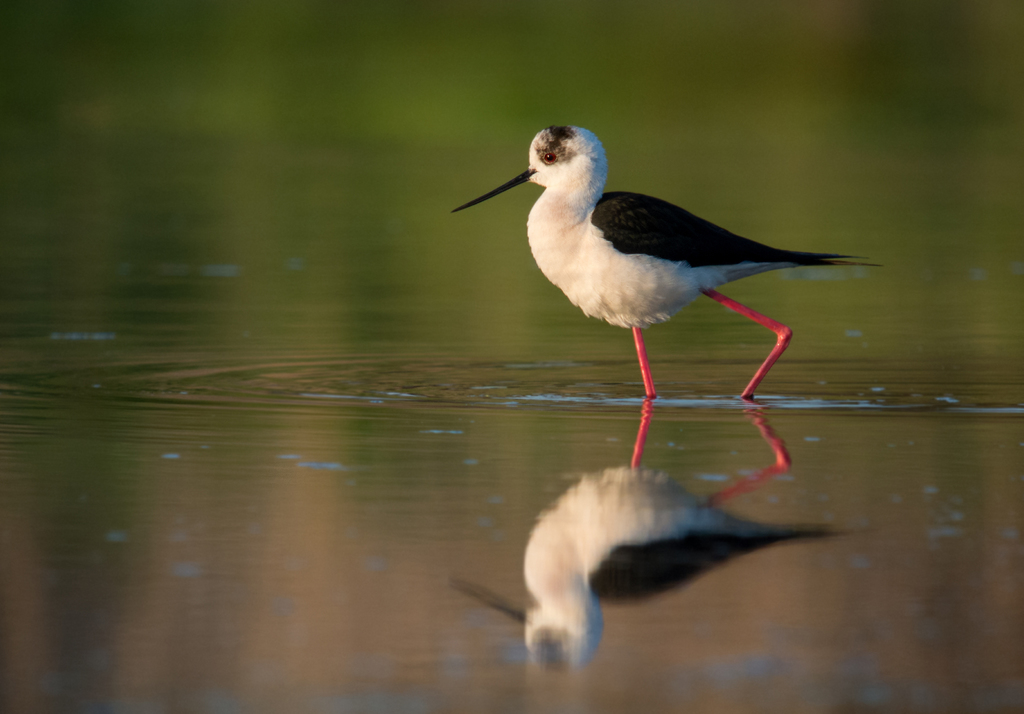Bird: (449, 125, 885, 399)
